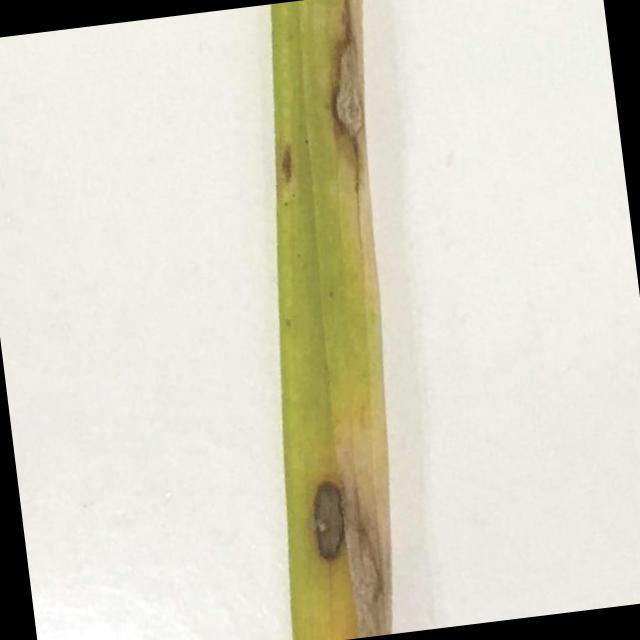Rice_Blast: (286, 424, 382, 590), (315, 0, 396, 191), (266, 131, 302, 190)
